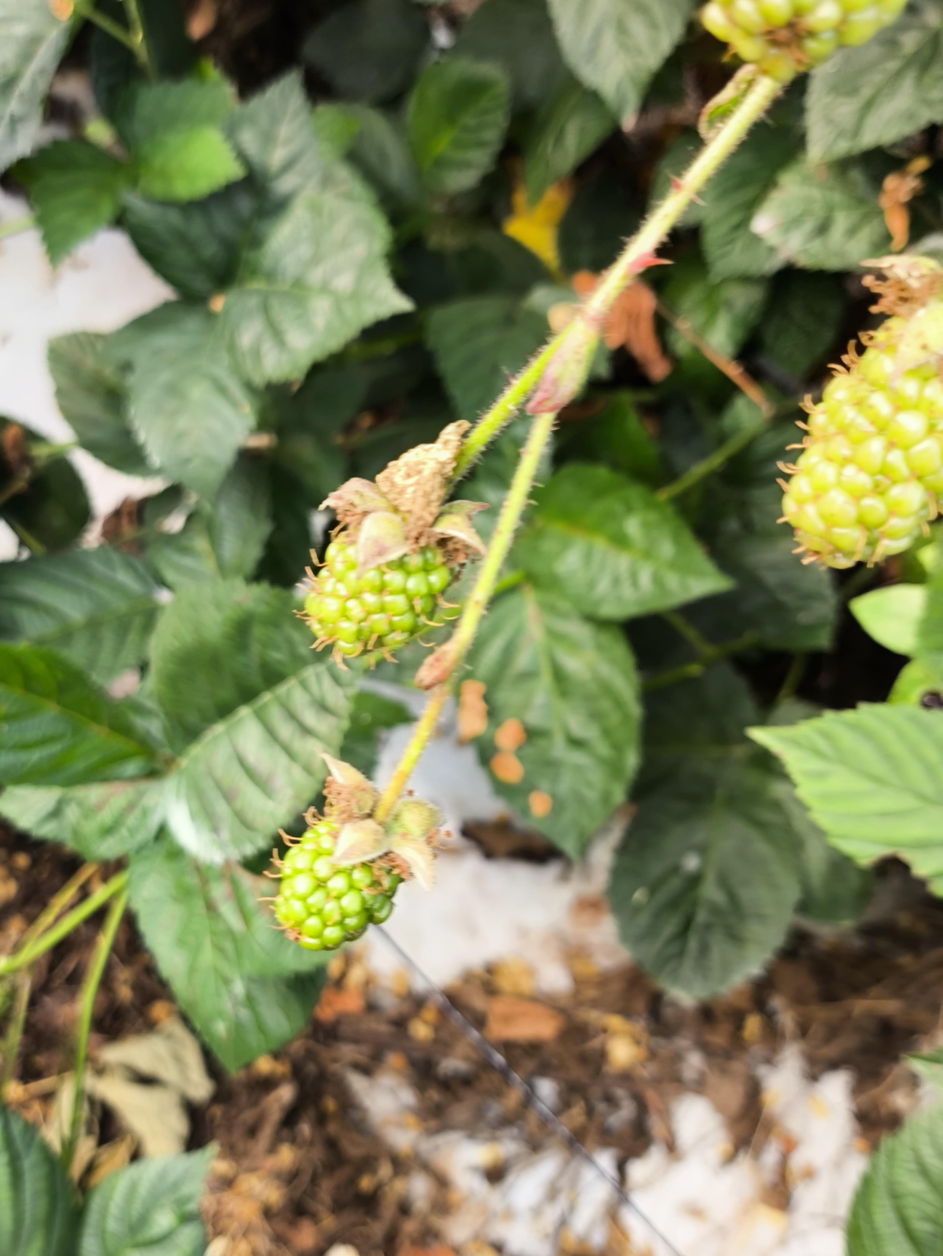verde: (782, 296, 943, 567), (269, 759, 437, 952), (308, 539, 452, 649)
